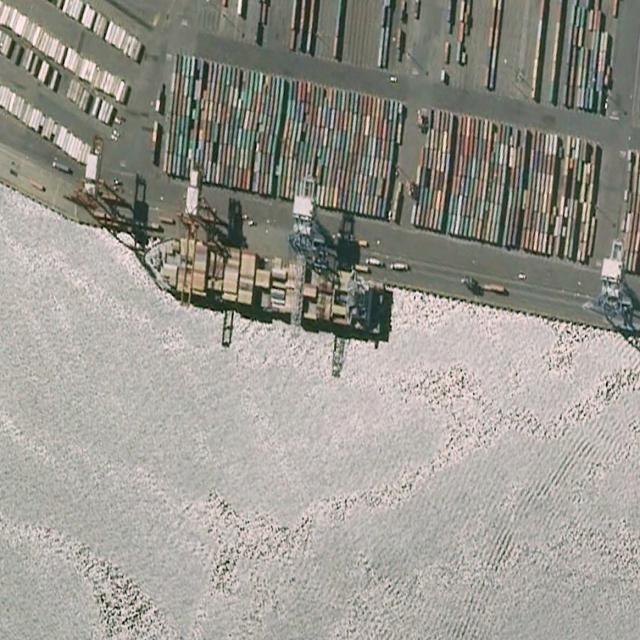Container Ship: (141, 227, 387, 338)
